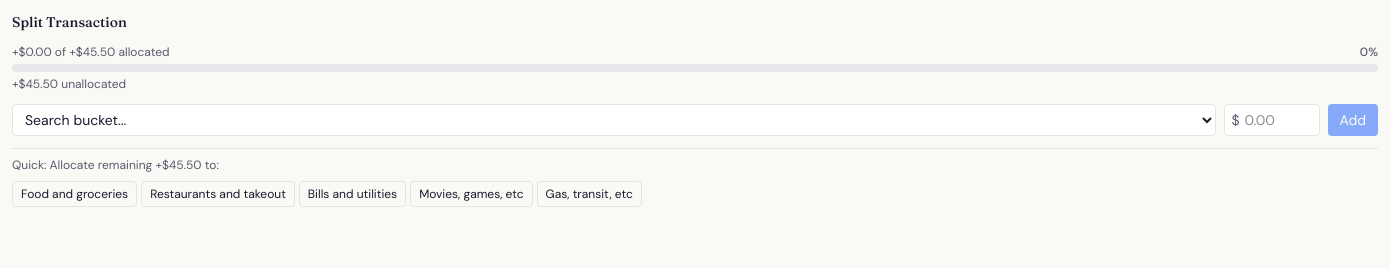
Test case: SplitTransaction › adding splits › updates progress bar after adding split
Select "Food and groceries" in the dropdown. click: x=614, y=120
box: [12,104,1216,136]
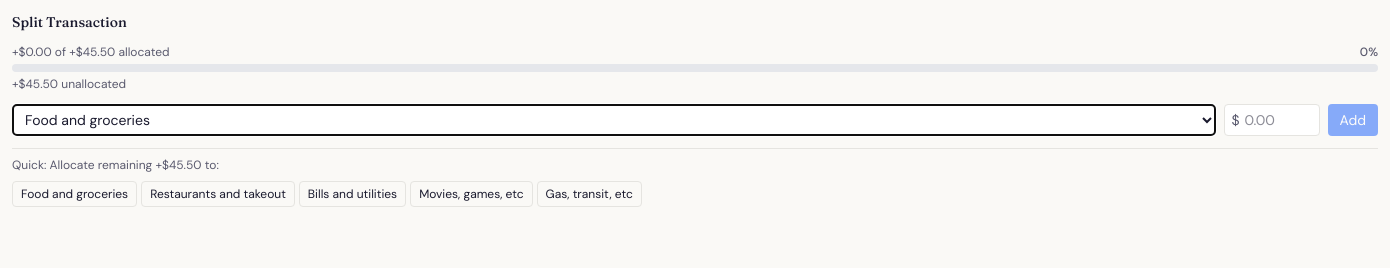
Type "22.75" into the number field with placeholder "0.00". click: x=1272, y=120
box: [1224,104,1320,136]
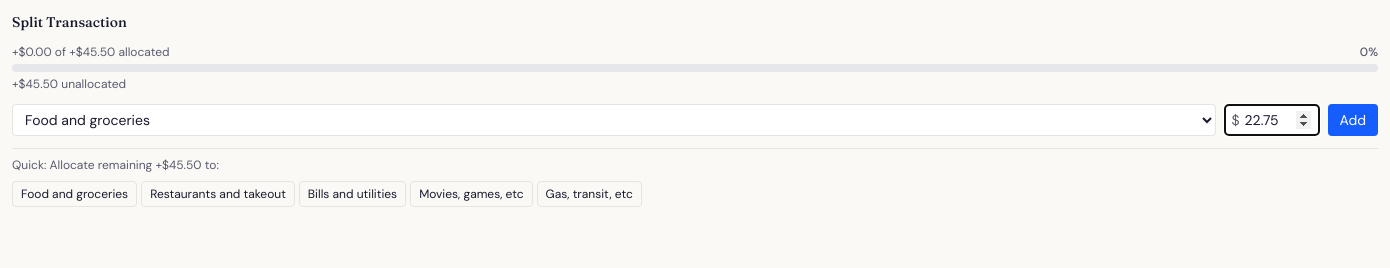
Click the button "Add". click: x=1353, y=120
box: [1328,104,1378,136]
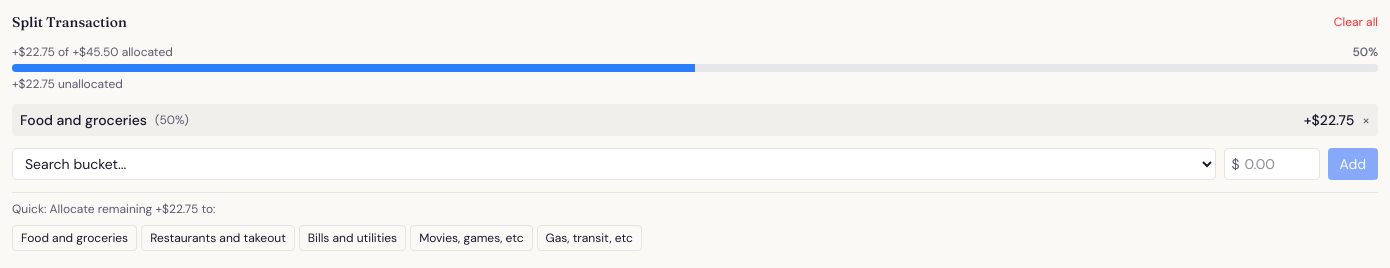
Result: the text "50%" is shown at [1352,44,1378,60]
